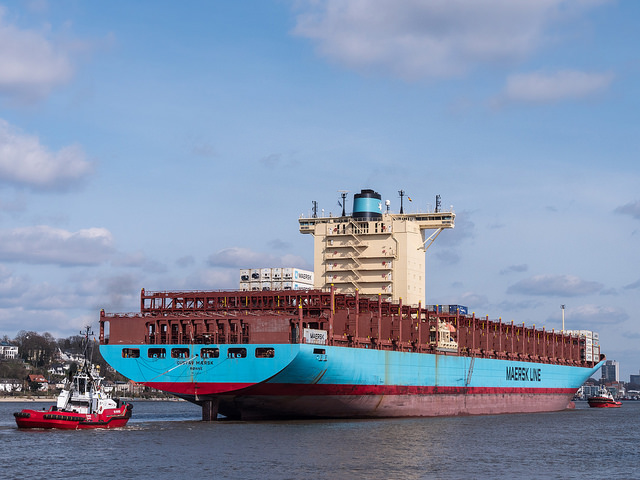container_ship: (102, 186, 608, 413)
tug_boat: (18, 331, 136, 436), (590, 381, 624, 412)
